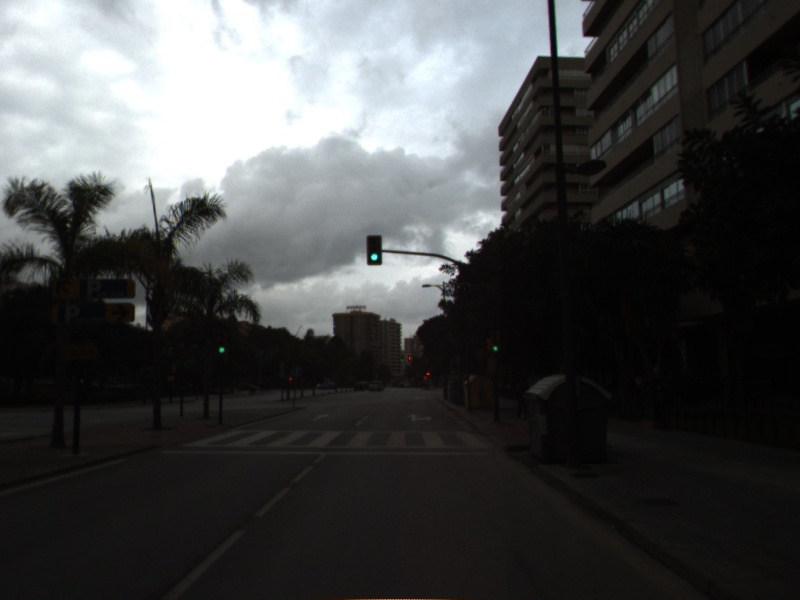STRAIGHT: (308, 411, 333, 424)
STRAIGHT_RIGHT: (404, 411, 435, 424)
